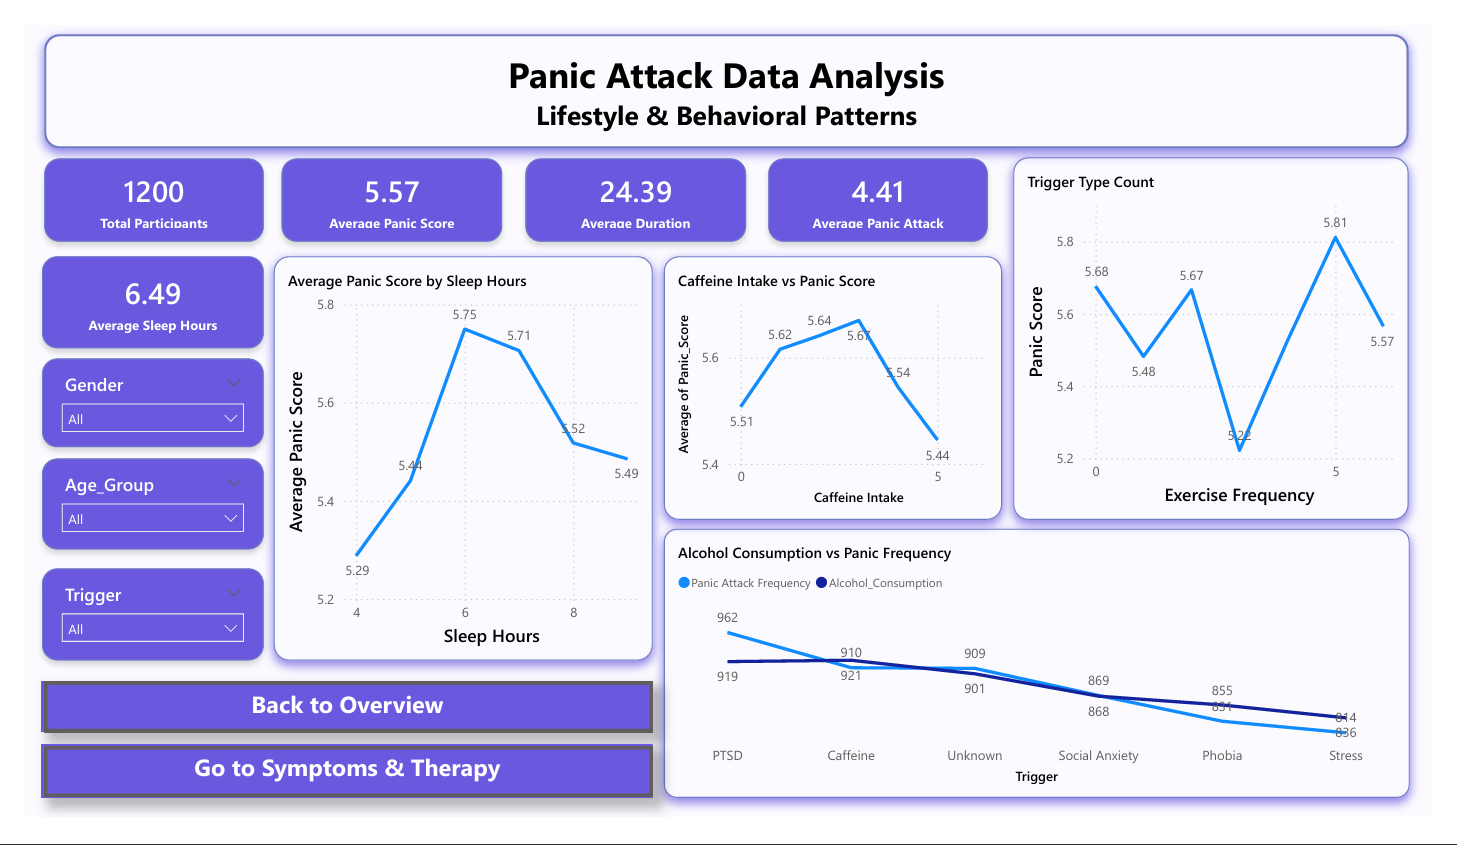

What the dashboard file says about the page in this screenshot:
{"tool":"powerbi","page":{"name":"Lifestyle & Behavioral Patterns","canvas":[1280,720],"ordinal":1},"visuals":[{"type":"card","fields":{"Values":["CountNonNull(panic_attack_dataset.ID)"]},"box":[17.5,120.6,200.4,76.8],"z":0},{"type":"card","fields":{"Values":["Avg(panic_attack_dataset.Panic_Score)"]},"box":[234.4,120.6,200.4,76.8],"z":1000},{"type":"card","fields":{"Values":["Avg(panic_attack_dataset.Duration_Minutes)"]},"box":[456.2,120.6,200.4,76.8],"z":2000},{"type":"lineChart","title":"Caffeine Intake vs Panic Score","fields":{"Category":["panic_attack_dataset.Caffeine_Intake"],"Y":["Avg(panic_attack_dataset.Panic_Score)"]},"box":[582.2,210,307.8,240],"z":3000},{"type":"lineChart","fields":{"Y":["Avg(panic_attack_dataset.Panic_Score)"],"Category":["panic_attack_dataset.Sleep_Hours"]},"box":[226.7,210,345.6,367.8],"z":4000},{"type":"slicer","fields":{"Values":["panic_attack_dataset.Trigger"]},"box":[15.6,494.4,202.2,83.3],"z":5000},{"type":"lineChart","title":"Trigger Type Count","fields":{"Category":["panic_attack_dataset.Exercise_Frequency"],"Y":["Avg(panic_attack_dataset.Panic_Score)"]},"box":[900,120,360,330],"z":6000},{"type":"slicer","title":"Gender","fields":{"Values":["panic_attack_dataset.Gender"]},"box":[15.6,303.3,202.2,81.1],"z":7000},{"type":"slicer","fields":{"Values":["panic_attack_dataset.Age_Group"]},"box":[15.6,394.4,202.2,82.2],"z":8000},{"type":"lineChart","title":"Alcohol Consumption vs Panic Frequency","fields":{"Y":["Sum(panic_attack_dataset.Panic_Attack_Frequency)","Sum(panic_attack_dataset.Alcohol_Consumption)"],"Category":["panic_attack_dataset.Trigger"]},"box":[582.2,457.8,678.9,245.6],"z":9000},{"type":"textbox","box":[15.6,596.7,556.7,46.7],"z":10000},{"type":"textbox","box":[15.6,654.4,556.7,48.9],"z":11000},{"type":"card","fields":{"Values":["Avg(panic_attack_dataset.Sleep_Hours)"]},"box":[15.6,210,202.2,84.4],"z":12000},{"type":"card","fields":{"Values":["Avg(panic_attack_dataset.Panic_Attack_Frequency)"]},"box":[677,120.6,200.4,76.8],"z":13000},{"type":"textbox","box":[18.2,8.2,1241.8,103.6],"z":14000},{"type":"actionButton","title":"Go to Lifestyle Analysis","box":[18.2,597.3,553.6,45.5],"z":15000},{"type":"actionButton","title":"Go to Lifestyle Analysis","box":[18.2,656.4,553.6,45.5],"z":16000}]}

Visuals, with their boxes on the page's 1280x720 design canvas (x1, y1, x2, y2). These are canvas units, not pixel positions in the 1457x845 screenshot, which may show the page scaled, cropped or inside an application window:
card - CountNonNull(panic_attack_dataset.ID): select_region(18, 121, 218, 197)
card - Avg(panic_attack_dataset.Panic_Score): select_region(234, 121, 435, 197)
card - Avg(panic_attack_dataset.Duration_Minutes): select_region(456, 121, 657, 197)
"Caffeine Intake vs Panic Score" lineChart: select_region(582, 210, 890, 450)
lineChart - Avg(panic_attack_dataset.Panic_Score) x panic_attack_dataset.Sleep_Hours: select_region(227, 210, 572, 578)
slicer - panic_attack_dataset.Trigger: select_region(16, 494, 218, 578)
"Trigger Type Count" lineChart: select_region(900, 120, 1260, 450)
"Gender" slicer: select_region(16, 303, 218, 384)
slicer - panic_attack_dataset.Age_Group: select_region(16, 394, 218, 477)
"Alcohol Consumption vs Panic Frequency" lineChart: select_region(582, 458, 1261, 703)
textbox: select_region(16, 597, 572, 643)
textbox: select_region(16, 654, 572, 703)
card - Avg(panic_attack_dataset.Sleep_Hours): select_region(16, 210, 218, 294)
card - Avg(panic_attack_dataset.Panic_Attack_Frequency): select_region(677, 121, 877, 197)
textbox: select_region(18, 8, 1260, 112)
"Go to Lifestyle Analysis" actionButton: select_region(18, 597, 572, 643)
"Go to Lifestyle Analysis" actionButton: select_region(18, 656, 572, 702)
